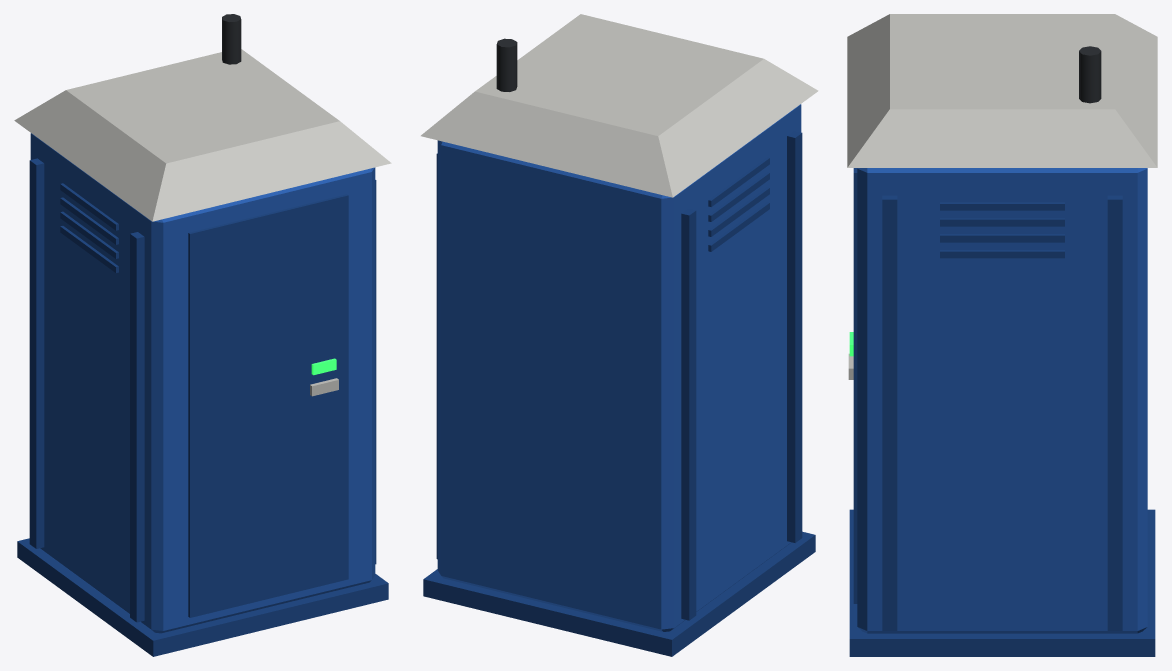
The model's file is gs-toilet.glb.
3 views of the same model, side by side, from view 1: azimuth 30°, elevation 25°; view 2: azimuth 150°, elevation 25°; view 3: azimuth 270°, elevation 25° (orthographic). The views are drawn at different scales.
Parts seen in each view (by area): view 1: gs-toilet; view 2: gs-toilet; view 3: gs-toilet.
Boxes of the visible parts, bbox=[...] form: gs-toilet: bbox=[14, 14, 391, 656]; gs-toilet: bbox=[421, 14, 818, 656]; gs-toilet: bbox=[847, 14, 1157, 656].
Bounding box in the file's own units: 1.24 × 2.55 × 1.24.
